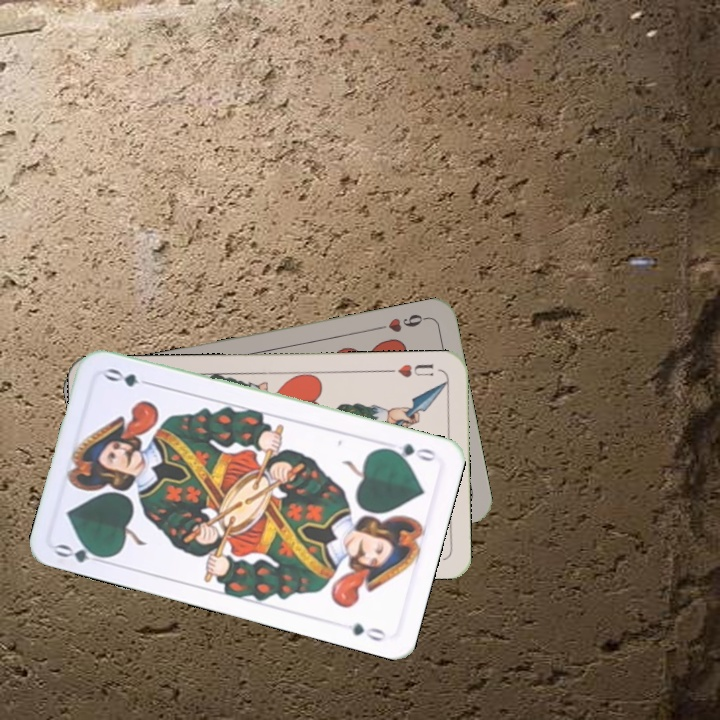GO: (51, 538, 111, 567), (380, 439, 439, 464)
H9: (372, 309, 430, 335)
HU: (383, 360, 436, 380)
